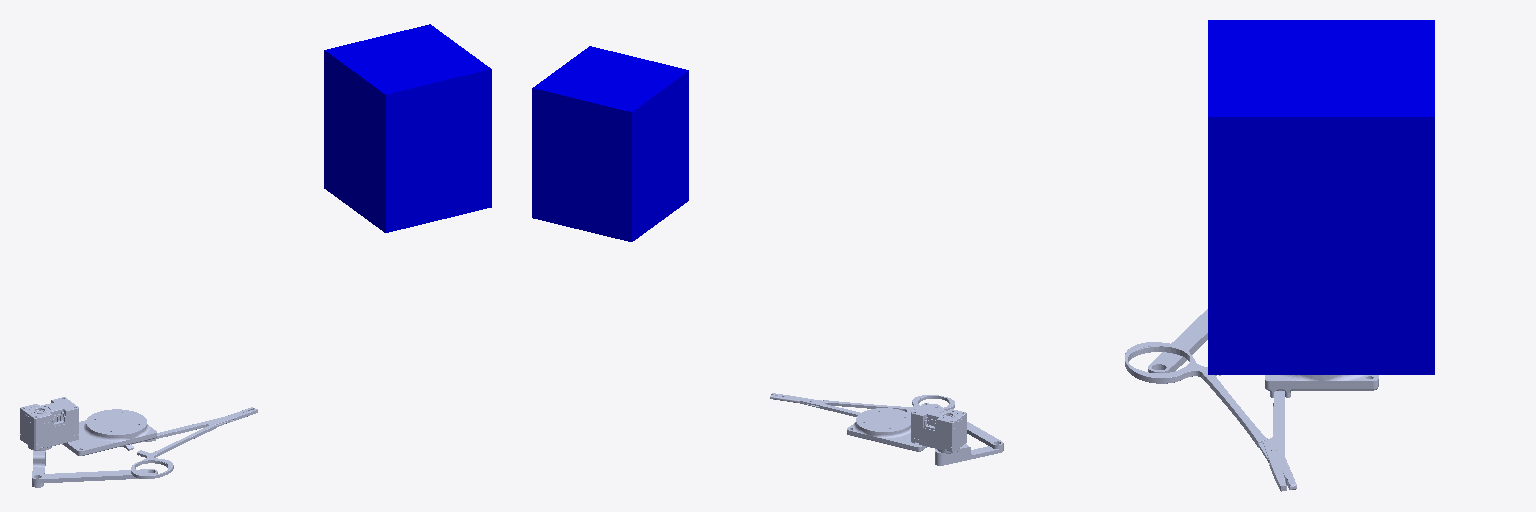
URDF robot description (rhand_needle_holder_robot):
<?xml version='1.0' encoding='utf-8'?>
<robot name="rhand_needle_holder_robot">
  <link name="rhand_surgery_clamp_assy_1">
    <visual>
      <origin xyz="0 0 0" rpy="0 0 0" />
      <geometry>
        <mesh filename="package://detachable_tools/meshes/surgenoid_needle_holder/SURGERY_CLAMP_ASSY_1.dae" />
      </geometry>
    </visual>
    <collision>
      <origin xyz="0 0 0" rpy="0 0 0" />
      <geometry>
        <mesh filename="package://detachable_tools/meshes/surgenoid_needle_holder/SURGERY_CLAMP_ASSY_1.stl" />
      </geometry>
    </collision>
    <inertial>
      <origin xyz="-0.004059165 0.0026714 -0.000173157" rpy="0 0 0" />
      <mass value="0.00675555" />
      <inertia ixx="4.67905e-07" ixy="9.59811e-07" ixz="1.28892e-08" iyy="6.25673e-06" iyz="-3.42424e-09" izz="6.71611e-06" />
    </inertial>
  </link>
  <link name="rhand_surgery_clamp_01_1">
    <visual>
      <origin xyz="0 0 0" rpy="0 0 0" />
      <geometry>
        <mesh filename="package://detachable_tools/meshes/surgenoid_needle_holder/SURGERY_CLAMP_01_1.dae" />
      </geometry>
    </visual>
    <collision>
      <origin xyz="0 0 0" rpy="0 0 0" />
      <geometry>
        <mesh filename="package://detachable_tools/meshes/surgenoid_needle_holder/SURGERY_CLAMP_01_1.stl" />
      </geometry>
    </collision>
    <inertial>
      <origin xyz="0.042705769 0.022098692 -0.0013036672" rpy="0 0 0" />
      <mass value="0.00562524" />
      <inertia ixx="1.16073e-06" ixy="-1.91324e-06" ixz="-4.08357e-10" iyy="4.55448e-06" iyz="4.80985e-10" izz="5.71081e-06" />
    </inertial>
  </link>
  <link name="rhand_xl_xc_330_1">
    <visual>
      <origin xyz="0 0 0" rpy="0 0 0" />
      <geometry>
        <mesh filename="package://detachable_tools/meshes/surgenoid_needle_holder/XL_XC_330_1.dae" />
      </geometry>
    </visual>
    <collision>
      <origin xyz="0 0 0" rpy="0 0 0" />
      <geometry>
        <mesh filename="package://detachable_tools/meshes/surgenoid_needle_holder/XL_XC_330_1.stl" />
      </geometry>
    </collision>
    <inertial>
      <origin xyz="7.9738e-05 -0.000522082 0.000156526" rpy="0 0 0" />
      <mass value="0.0168532" />
      <inertia ixx="2.45858e-06" ixy="-2.3451e-14" ixz="4.47712e-14" iyy="1.4262e-06" iyz="-4.7932e-08" izz="2.13119e-06" />
    </inertial>
  </link>
  <link name="rhand_base_link">
    <visual>
      <origin xyz="0 0 0" rpy="0 0 0" />
      <geometry>
        <mesh filename="package://detachable_tools/meshes/surgenoid_needle_holder/screwlock_male_hard_v2_1.dae" />
      </geometry>
    </visual>
    <collision>
      <origin xyz="0 0 0" rpy="0 0 0" />
      <geometry>
        <mesh filename="package://detachable_tools/meshes/surgenoid_needle_holder/screwlock_male_hard_v2_1.stl" />
      </geometry>
    </collision>
    <inertial>
      <origin xyz="1.4366722e-05 -0.00010691039 -0.0024040291" rpy="0 0 0" />
      <mass value="0.0162824" />
      <inertia ixx="1.61417e-06" ixy="3.47268e-09" ixz="-7.7713e-10" iyy="1.62572e-06" iyz="-1.41976e-09" izz="2.52267e-06" />
    </inertial>
  </link>
  <link name="rhand_small_needle_holder_base_1">
    <visual>
      <origin xyz="0 0 0" rpy="0 0 0" />
      <geometry>
        <mesh filename="package://detachable_tools/meshes/surgenoid_needle_holder/small_needle_hoder_base_1.dae" />
      </geometry>
    </visual>
    <collision>
      <origin xyz="0 0 0" rpy="0 0 0" />
      <geometry>
        <mesh filename="package://detachable_tools/meshes/surgenoid_needle_holder/small_needle_hoder_base_1.stl" />
      </geometry>
    </collision>
    <inertial>
      <origin xyz="-0.00120503 0.0003059 -0.000101532" rpy="0 0 0" />
      <mass value="0.020773" />
      <inertia ixx="2.68109e-06" ixy="8.34229e-08" ixz="7.87172e-08" iyy="5.53461e-06" iyz="4.19901e-08" izz="7.91237e-06" />
    </inertial>
  </link>
  <link name="rhand_small_needle_holder_link1_1">
    <visual>
      <origin xyz="0 0 0" rpy="0 0 0" />
      <geometry>
        <mesh filename="package://detachable_tools/meshes/surgenoid_needle_holder/small_needle_holder_link1_1.dae" />
      </geometry>
    </visual>
    <collision>
      <origin xyz="0 0 0" rpy="0 0 0" />
      <geometry>
        <mesh filename="package://detachable_tools/meshes/surgenoid_needle_holder/small_needle_holder_link1_1.stl" />
      </geometry>
    </collision>
    <inertial>
      <origin xyz="0.0067603411 0.010742293 -0.0056220958" rpy="0 0 0" />
      <mass value="0.00332751" />
      <inertia ixx="4.67896e-07" ixy="-2.67743e-07" ixz="2.00383e-08" iyy="2.10944e-07" iyz="3.18413e-08" izz="6.2836e-07" />
    </inertial>
  </link>
  <link name="rhand_small_needle_holder_link2_1">
    <visual>
      <origin xyz="0 0 0" rpy="0 0 0" />
      <geometry>
        <mesh filename="package://detachable_tools/meshes/surgenoid_needle_holder/small_needle_holder_link2_1.dae" />
      </geometry>
    </visual>
    <collision>
      <origin xyz="0 0 0" rpy="0 0 0" />
      <geometry>
        <mesh filename="package://detachable_tools/meshes/surgenoid_needle_holder/small_needle_holder_link2_1.stl" />
      </geometry>
    </collision>
    <inertial>
      <origin xyz="-0.034350012 0.015044146 0.0115" rpy="0 0 0" />
      <mass value="0.00195003" />
      <inertia ixx="1.82933e-07" ixy="3.91066e-07" ixz="-1.45386e-22" iyy="9.04573e-07" iyz="6.36835e-23" izz="1.08458e-06" />
    </inertial>
  </link>
  <joint name="rhand_holder_base_to_motor" type="fixed">
    <origin xyz="0.038688034 -0.006248738 0.011774486" rpy="-3.141592607 0 1.5707963" />
    <parent link="rhand_small_needle_holder_base_1" />
    <child link="rhand_xl_xc_330_1" />
    <axis xyz="0 0 -1" />
  </joint>
  <joint name="rhand_holder_base_to_clamp" type="fixed">
    <origin xyz="-0.037277901 0.011289345 -0.004030915" rpy="0 0 -3.0922928" />
    <parent link="rhand_small_needle_holder_base_1" />
    <child link="rhand_surgery_clamp_assy_1" />
    <axis xyz="0 0 -1" />
  </joint>
  <joint name="rhand_holder_screw_to_base" type="fixed">
    <origin xyz="-0.009065668 -0.000168333 -0.015571405" rpy="-6.327e-06 -2.654e-06 3.141589" />
    <parent link="rhand_base_link" />
    <child link="rhand_small_needle_holder_base_1" />
    <axis xyz="0 0 1" />
  </joint>
  <joint name="rhand_holder_jaw_joint" type="revolute">
    <origin xyz="0.040124645 -0.00714826 0.001320943" rpy="0 0 3.0922928" />
    <parent link="rhand_surgery_clamp_assy_1" />
    <child link="rhand_surgery_clamp_01_1" />
    <axis xyz="0 0 -1" />
    <limit lower="-0.29662" upper="0.44772" effort="10" velocity="3.14" />
    <mimic joint="rhand_joint" multiplier="0.581031" offset="0" />
  </joint>
  <joint name="rhand_joint" type="revolute">
    <origin xyz="7.9738e-05 0.006746875 0.013703058" rpy="-3.141592607 0 1.5707963" />
    <parent link="rhand_xl_xc_330_1" />
    <child link="rhand_small_needle_holder_link1_1" />
    <axis xyz="0 0 -1" />
    <limit lower="-12.566" upper="12.566" effort="10" velocity="3.14" />
  </joint>
  <joint name="rhand_holder_tip_joint" type="revolute">
    <origin xyz="0.020772397 0.033007689 -0.017" rpy="0 -0 0" />
    <parent link="rhand_small_needle_holder_link1_1" />
    <child link="rhand_small_needle_holder_link2_1" />
    <axis xyz="0 0 1" />
    <limit lower="-0.84903" upper="0.87973" effort="10" velocity="3.14" />
    <mimic joint="rhand_joint" multiplier="1.35269" offset="0" />
  </joint>
  <link name="rhand_detach_link_0">
    <visual>
      <origin xyz="0.12 0 0.05" rpy="0 0 0" />
      <geometry>
        <box size="0.08 0.08 0.1" />
      </geometry>
      <material name="rhand_detach_link_0_material">
        <color rgba="0 0 1 1" />
      </material>
    </visual>
    <inertial>
      <origin xyz="0 0 0" rpy="0 0 0" />
      <mass value="0.01" />
      <inertia ixx="1e-5" ixy="0" ixz="0" iyy="1e-5" iyz="0" izz="1e-5" />
    </inertial>
  </link>
  <joint name="rhand_detach_joint_0" type="continuous">
    <origin xyz="0.1 0 0.1" rpy="0 0 0" />
    <parent link="rhand_base_link" />
    <child link="rhand_detach_link_0" />
    <axis xyz="0 1 0" />
    <limit effort="2.0" velocity="6.8" />
  </joint>
  <transmission name="rhand_trans">
    <type>transmission_interface/SimpleTransmission</type>
    <joint name="rhand_joint">
      <hardwareInterface>hardware_interface/PositionJointInterface</hardwareInterface>
      <hardwareInterface>hardware_interface/EffortJointInterface</hardwareInterface>
      <offset>0.0</offset>
    </joint>
    <actuator name="rhand_motor">
      <mechanicalReduction>1.0</mechanicalReduction>
    </actuator>
  </transmission>
  <transmission name="rhand_detach_0_trans">
    <type>transmission_interface/SimpleTransmission</type>
    <joint name="rhand_detach_joint_0">
      <hardwareInterface>hardware_interface/PositionJointInterface</hardwareInterface>
      <hardwareInterface>hardware_interface/EffortJointInterface</hardwareInterface>
      <offset>0.0</offset>
    </joint>
    <actuator name="rhand_detach_motor_0">
      <mechanicalReduction>1.0</mechanicalReduction>
    </actuator>
  </transmission>

  <!-- Dynamixel motor (ros2_control, dynamixel_hardware_interface) -->
  <ros2_control name="rhand_needle_holder" type="system">
    <hardware>
      <plugin>dynamixel_hardware_interface/DynamixelHardware</plugin>
      <param name="port_name">/dev/rhand</param>
      <param name="baud_rate">57600</param>
      <param name="number_of_joints">1</param>
      <param name="number_of_transmissions">1</param>
      <param name="dynamixel_model_folder">/param/dxl_model</param>
      <param name="disable_torque_at_init">true</param>
      <param name="error_timeout_ms">1000</param>
      <param name="dynamixel_state_pub_msg_name">needle_holder/dxl_state</param>
      <param name="get_dynamixel_data_srv_name">needle_holder/get_dxl_data</param>
      <param name="set_dynamixel_data_srv_name">needle_holder/set_dxl_data</param>
      <param name="reboot_dxl_srv_name">needle_holder/reboot_dxl</param>
      <param name="set_dxl_torque_srv_name">needle_holder/set_dxl_torque</param>
      <param name="protocol_version">2.0</param>
      <param name="initialize_communication_on_configure">true</param>
    </hardware>
    <gpio name="rhand_motor">
      <param name="ID">5</param>
      <param name="type">dxl</param>
      <param name="Return Delay Time">0</param>
      <param name="Operating Mode">5</param>
      <param name="Torque Enable">1</param>
      <param name="[unit info]">Present Current,0.00115,N m,signed,0.0;Goal Current,0.00115,N m,signed,0.0</param>
      <command_interface name="Goal Position" />
      <command_interface name="Goal Current" />
      <state_interface name="Present Position" />
      <state_interface name="Present Velocity" />
      <state_interface name="Present Current" />
    </gpio>
    <joint name="rhand_joint">
      <command_interface name="position" />
      <command_interface name="effort" />
      <state_interface name="position" />
      <state_interface name="velocity" />
      <state_interface name="effort" />
      <state_interface name="hardware_state" />
      <state_interface name="torque_enable" />
    </joint>
  </ros2_control>
</robot>

--- Render facts (derived) ---
Views: 3 orthographic renders of the robot side by side, from view 1: azimuth 30°, elevation 25°; view 2: azimuth 150°, elevation 25°; view 3: azimuth 270°, elevation 25°.
Model rhand_needle_holder_robot with 8 links and 7 joints (3 revolute, 1 continuous, 3 fixed), rooted at rhand_base_link, posed all joints at 0.
Visible links, largest first — view 1: rhand_detach_link_0, rhand_small_needle_holder_base_1, rhand_xl_xc_330_1, rhand_small_needle_holder_link2_1, rhand_surgery_clamp_01_1, rhand_surgery_clamp_assy_1; view 2: rhand_detach_link_0, rhand_xl_xc_330_1, rhand_small_needle_holder_base_1, rhand_surgery_clamp_01_1, rhand_small_needle_holder_link1_1; view 3: rhand_detach_link_0, rhand_surgery_clamp_01_1, rhand_small_needle_holder_base_1, rhand_small_needle_holder_link2_1, rhand_surgery_clamp_assy_1.
Boxes of the visible links, x1,y1,x2,y2 form: rhand_detach_link_0: (324,24,491,232); rhand_small_needle_holder_base_1: (62,409,156,455); rhand_xl_xc_330_1: (20,397,78,450); rhand_small_needle_holder_link2_1: (32,469,157,483); rhand_surgery_clamp_01_1: (131,407,254,478); rhand_surgery_clamp_assy_1: (122,409,257,450); rhand_detach_link_0: (532,46,688,241); rhand_xl_xc_330_1: (911,403,966,453); rhand_small_needle_holder_base_1: (847,408,926,451); rhand_surgery_clamp_01_1: (770,395,954,414); rhand_small_needle_holder_link1_1: (935,444,1003,465); rhand_detach_link_0: (1208,20,1434,374); rhand_surgery_clamp_01_1: (1125,342,1296,489); rhand_small_needle_holder_base_1: (1265,375,1378,397); rhand_small_needle_holder_link2_1: (1148,309,1207,372); rhand_surgery_clamp_assy_1: (1263,391,1286,491).
Bounding box of the posed robot: 0.3393 × 0.1093 × 0.2275 m (x, y, z).
Meshes: 7 distinct files referenced, 6 mesh visuals loaded (6 Collada DAE); not drawn: 1 (reference not matched to a file when rendering).
